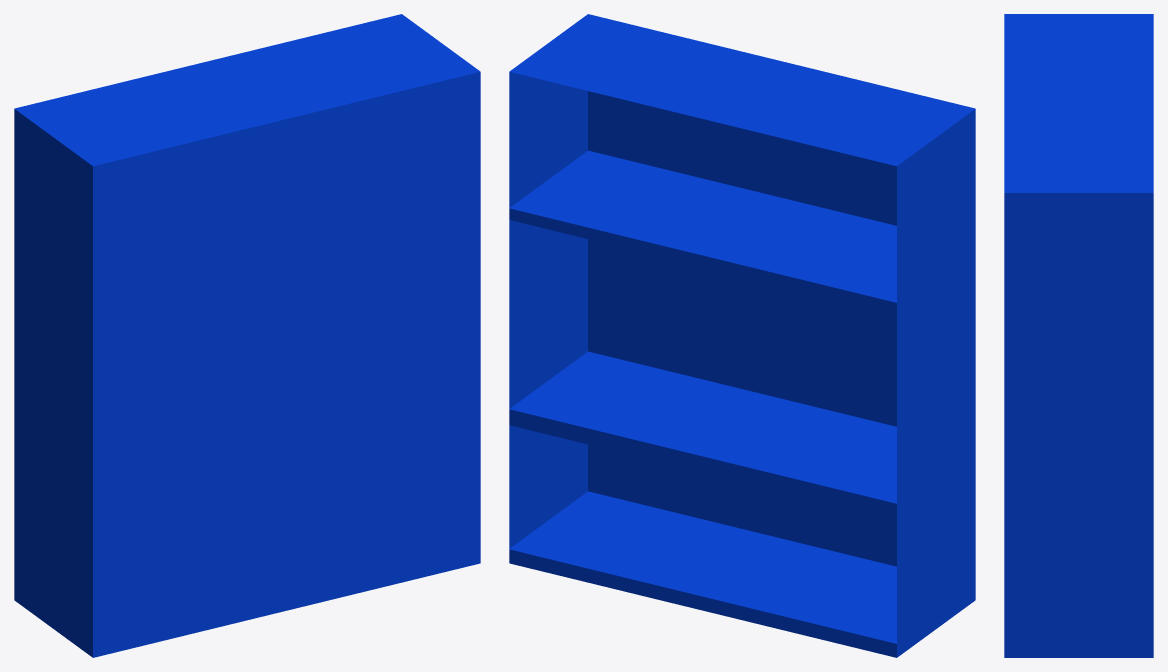
File: Bookshelf.fbx
3 views of the same model, side by side, from view 1: azimuth 30°, elevation 25°; view 2: azimuth 150°, elevation 25°; view 3: azimuth 270°, elevation 25° (orthographic). The views are drawn at different scales.
Parts seen in each view (by area): view 1: Bookshelf; view 2: Bookshelf; view 3: Bookshelf.
Part boxes in pixels (box(x1,y1,x2,y2)): Bookshelf: box(14, 14, 480, 657); Bookshelf: box(509, 14, 975, 657); Bookshelf: box(1004, 14, 1153, 657).
Bounding box in the file's own units: 667 × 808 × 235.
